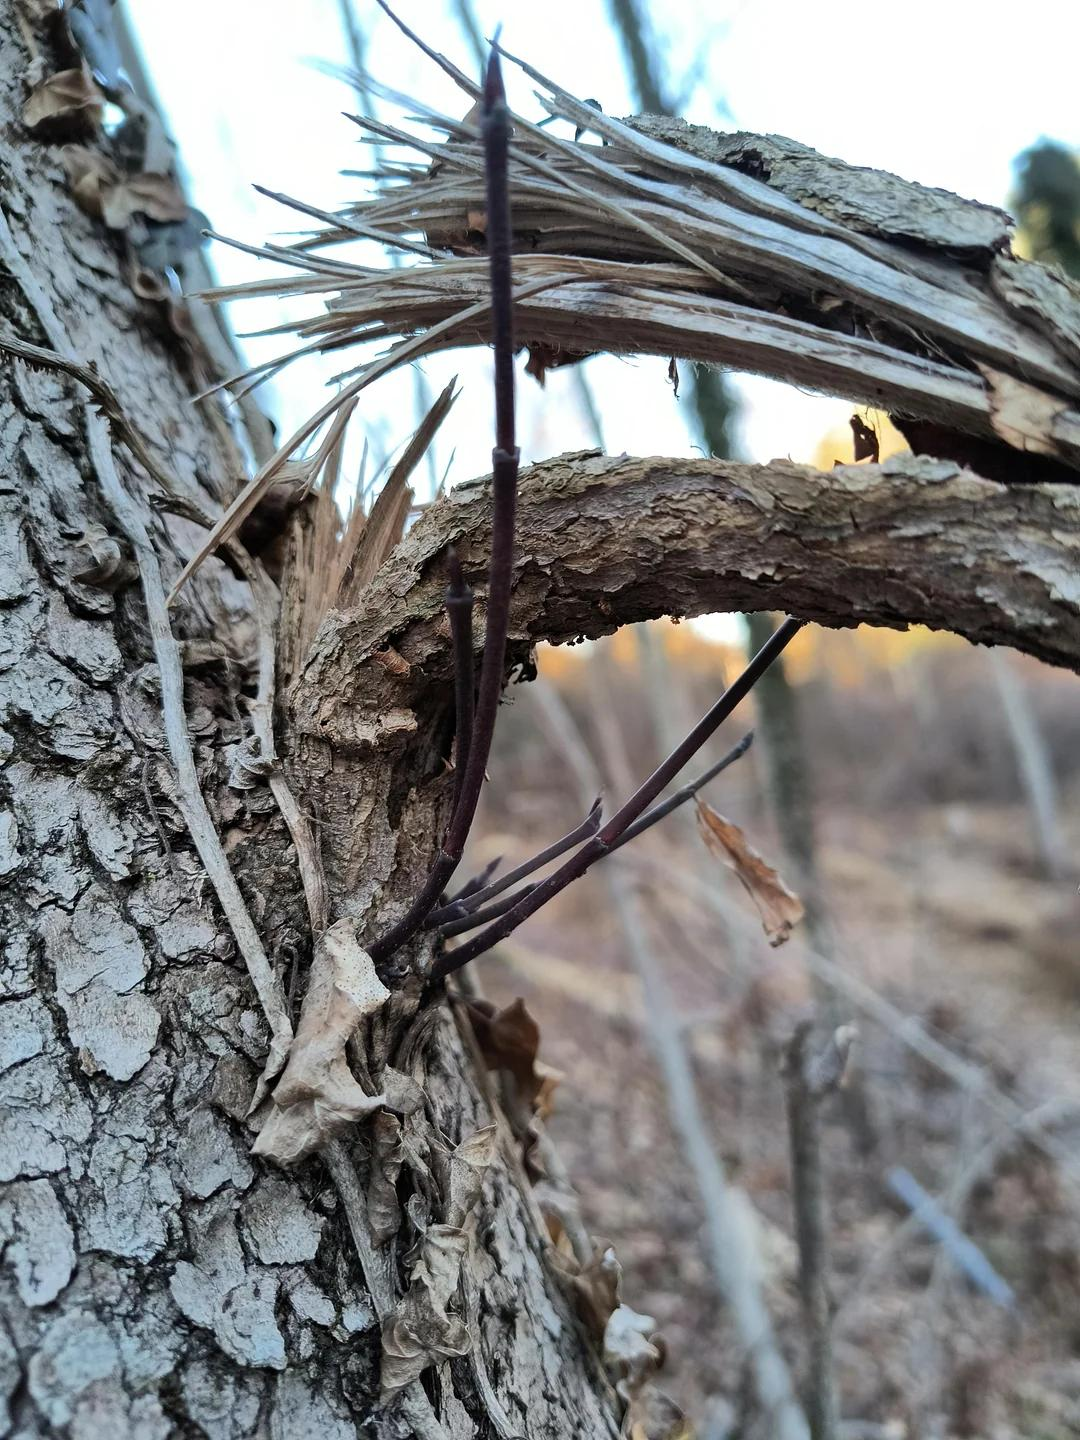mechanical damage: (514, 135, 1079, 480), (228, 240, 487, 361), (298, 410, 351, 654), (364, 142, 481, 245)
